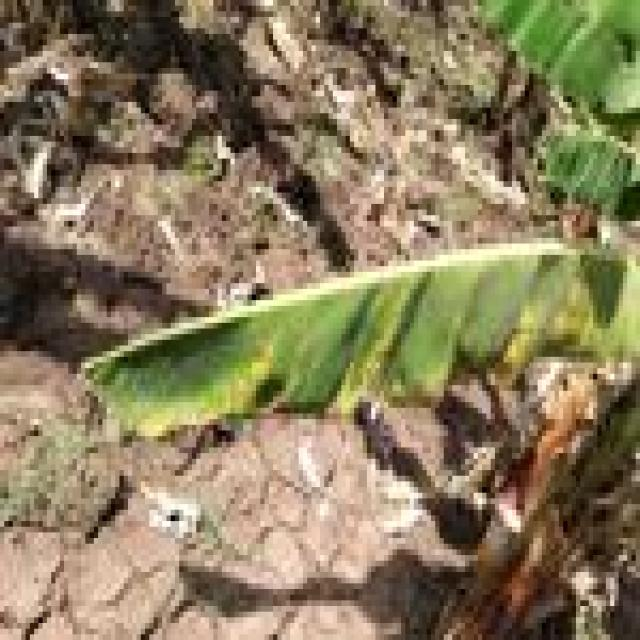Early_rust: (88, 251, 640, 534)
